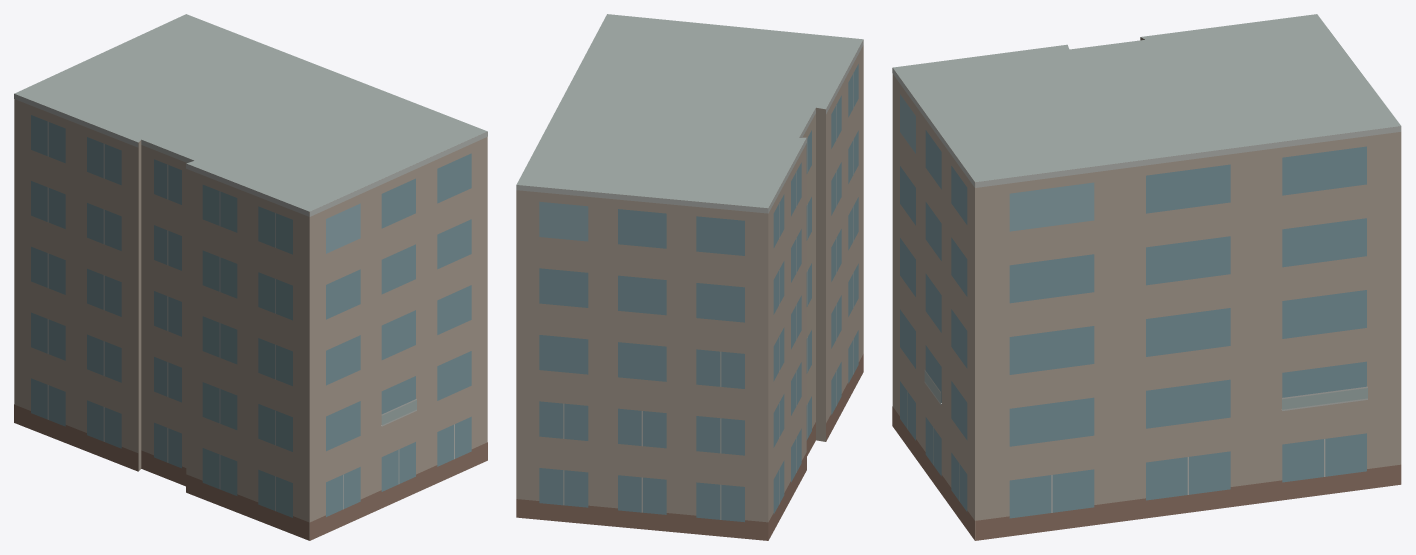
The model's file is survey-upis-32609464.glb.
3 views of the same model, side by side, from view 1: azimuth 30°, elevation 25°; view 2: azimuth 150°, elevation 25°; view 3: azimuth 270°, elevation 25° (orthographic). The views are drawn at different scales.
Parts seen in each view (by area): view 1: survey-upis-32609464.tmp; view 2: survey-upis-32609464.tmp; view 3: survey-upis-32609464.tmp.
Boxes of the visible parts, bbox=[...] form: survey-upis-32609464.tmp: bbox=[14, 14, 487, 540]; survey-upis-32609464.tmp: bbox=[516, 14, 863, 540]; survey-upis-32609464.tmp: bbox=[892, 14, 1401, 540].
Bounding box in the file's own units: 15.36 × 15.25 × 19.62.
